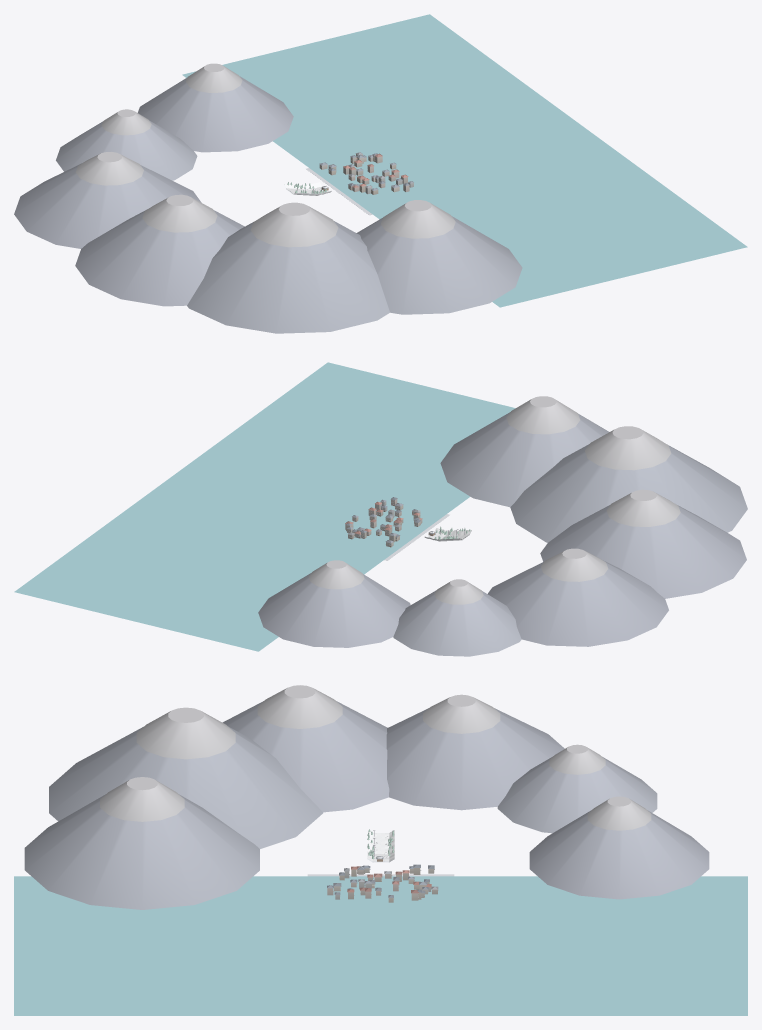
The model's file is snow_slope.glb.
3 views of the same model, one above another, from view 1: azimuth 30°, elevation 25°; view 2: azimuth 150°, elevation 25°; view 3: azimuth 270°, elevation 25° (orthographic). The views are drawn at different scales.
Parts seen in each view (by area): view 1: water, far_mountains, houses_far, roofs; view 2: water, far_mountains, houses_far, roofs; view 3: water, far_mountains, houses_far, roofs, snow-col.
Boxes of the visible parts, x1,y1,x2,y2 form: water: (182,14,747,307); far_mountains: (14,63,522,333); houses_far: (319,154,413,194); roofs: (319,152,413,190); water: (14,362,515,651); far_mountains: (258,396,747,656); houses_far: (345,499,422,547); roofs: (345,497,435,543); water: (14,876,747,1015); far_mountains: (24,685,709,909); houses_far: (327,868,437,902); roofs: (327,856,438,897); snow-col: (367,830,394,862).
Size of what is drawn, in the model's own units: 777 by 105 by 800.
